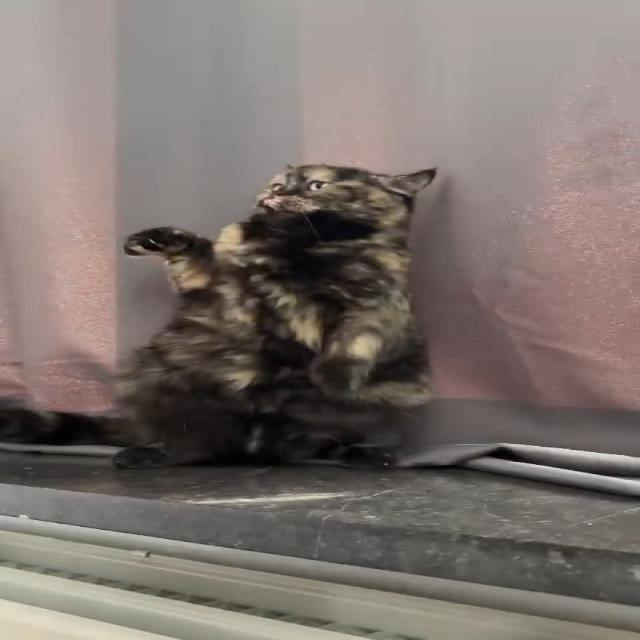authorized: (3, 162, 437, 469)
